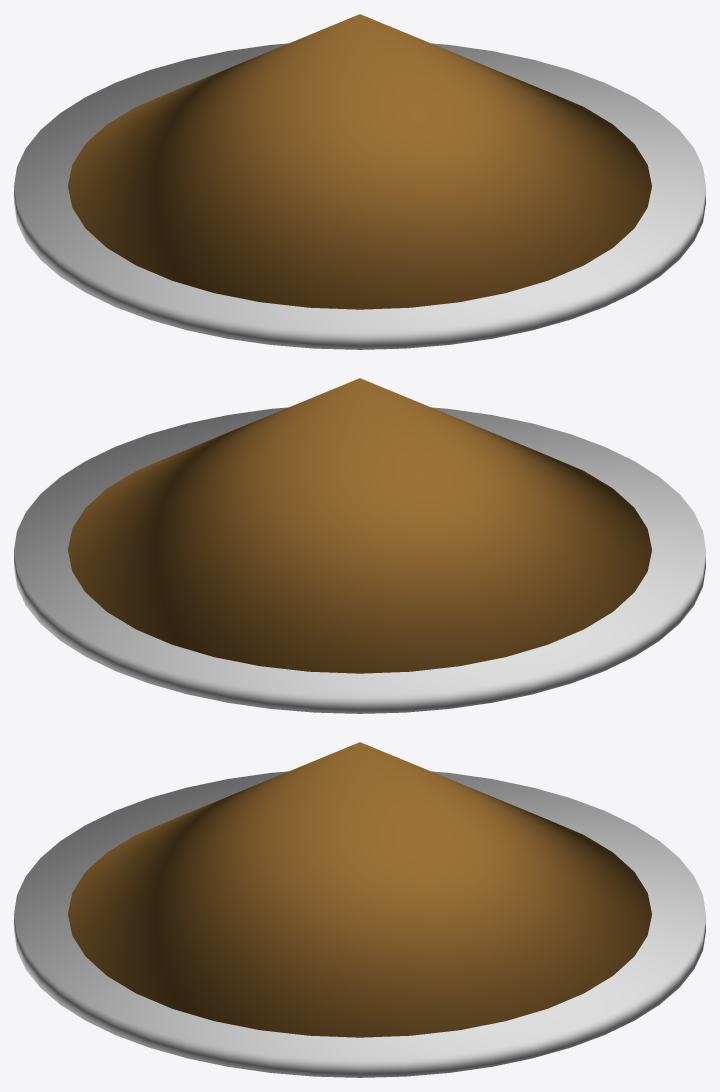
File: sand-pickup.obj
3 renders of one model, top to bottom at view 1: azimuth 30°, elevation 25°; view 2: azimuth 150°, elevation 25°; view 3: azimuth 270°, elevation 25°, orthographic.
Parts seen in each view (by area): view 1: sand-pickup; view 2: sand-pickup; view 3: sand-pickup.
Part boxes in pixels (x1,y1,x2,y2): sand-pickup: (14,14,705,349); sand-pickup: (14,378,705,713); sand-pickup: (14,742,705,1077).
Bounding box in the file's own units: 0.43 × 0.13 × 0.43.
